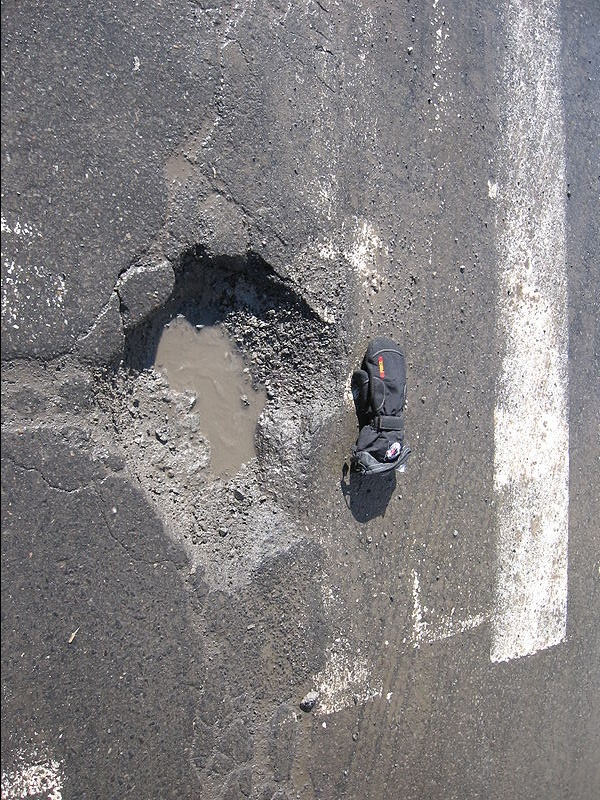pothole: (120, 243, 340, 547)
